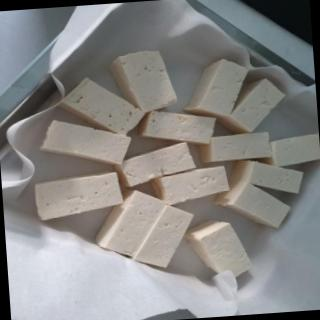Tahu: (36, 51, 320, 277)
